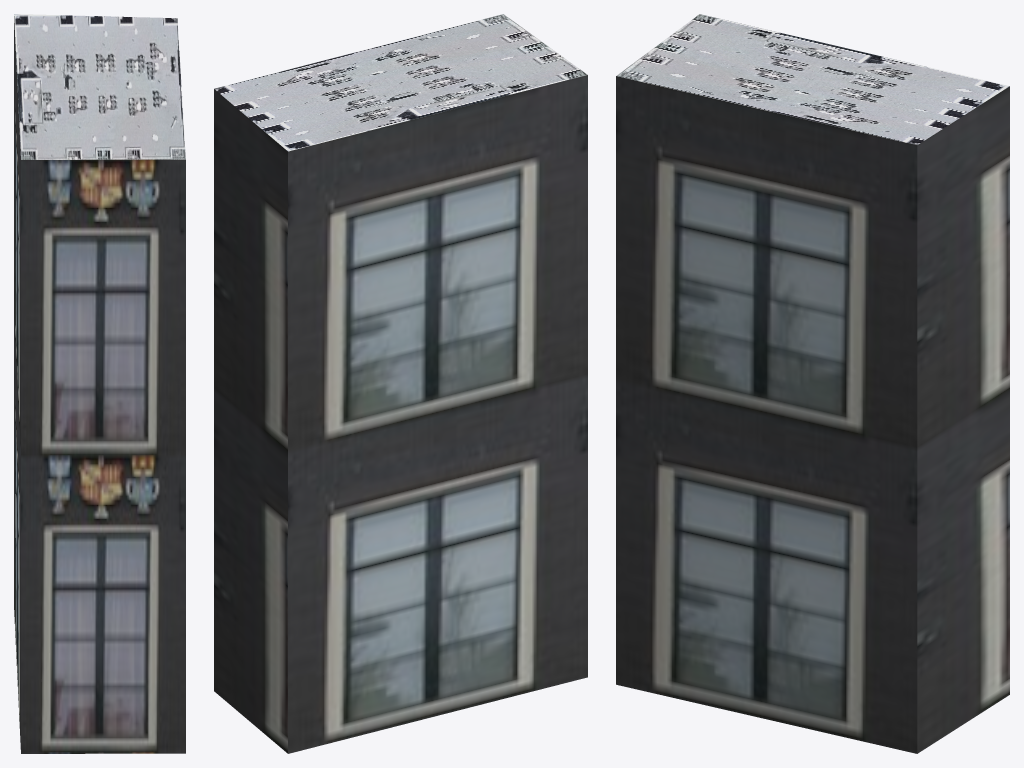
Rendered from ResTex__760.fbx.
3 renders of one model, left to right at view 1: azimuth 30°, elevation 25°; view 2: azimuth 150°, elevation 25°; view 3: azimuth 270°, elevation 25°, orthographic. The views are drawn at different scales.
Visible parts, largest first — view 1: CityEngineMaterial_22_m, CityEngineMaterial_m; view 2: CityEngineMaterial_22_m, CityEngineMaterial_m; view 3: CityEngineMaterial_22_m, CityEngineMaterial_m.
Boxes of the visible parts, x1,y1,x2,y2 form: CityEngineMaterial_22_m: [14, 16, 185, 753]; CityEngineMaterial_m: [14, 14, 185, 159]; CityEngineMaterial_22_m: [214, 75, 587, 753]; CityEngineMaterial_m: [214, 14, 587, 151]; CityEngineMaterial_22_m: [616, 76, 1009, 753]; CityEngineMaterial_m: [616, 14, 1009, 145].
Size of the model in its own units: 2.78 by 6 by 3.52.
Materials: 2 (2 with a texture image).
